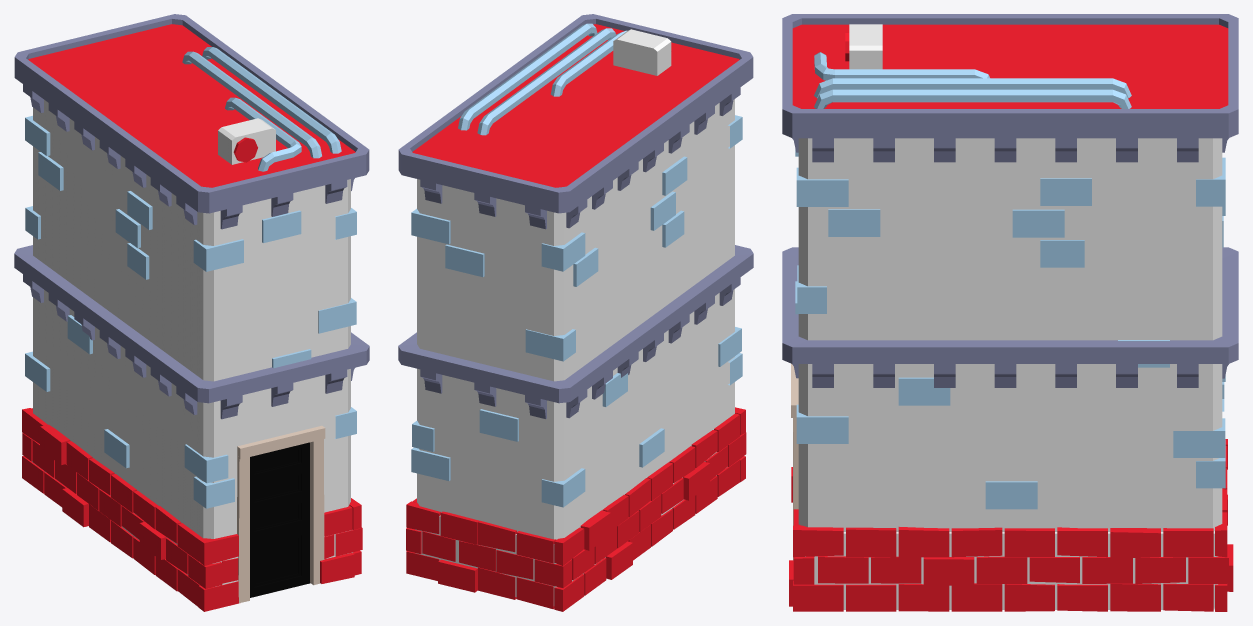
Rendered from building_quaternius_2Story_Slim.glb.
3 renders of one model, left to right at view 1: azimuth 30°, elevation 25°; view 2: azimuth 150°, elevation 25°; view 3: azimuth 270°, elevation 25°, orthographic. The views are drawn at different scales.
Bounding box in the file's own units: 1.12 × 2.76 × 2.15.
Materials: 1 (1 with a texture image).
